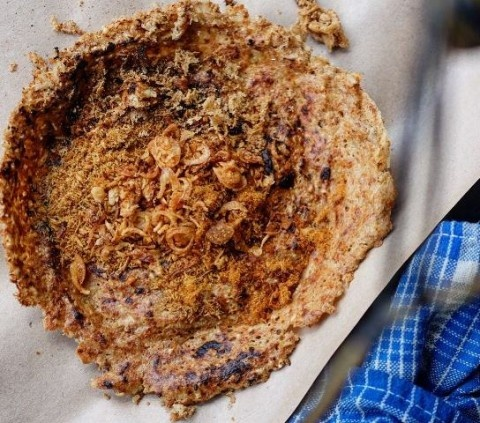kerak_telor: (1, 3, 395, 404)
